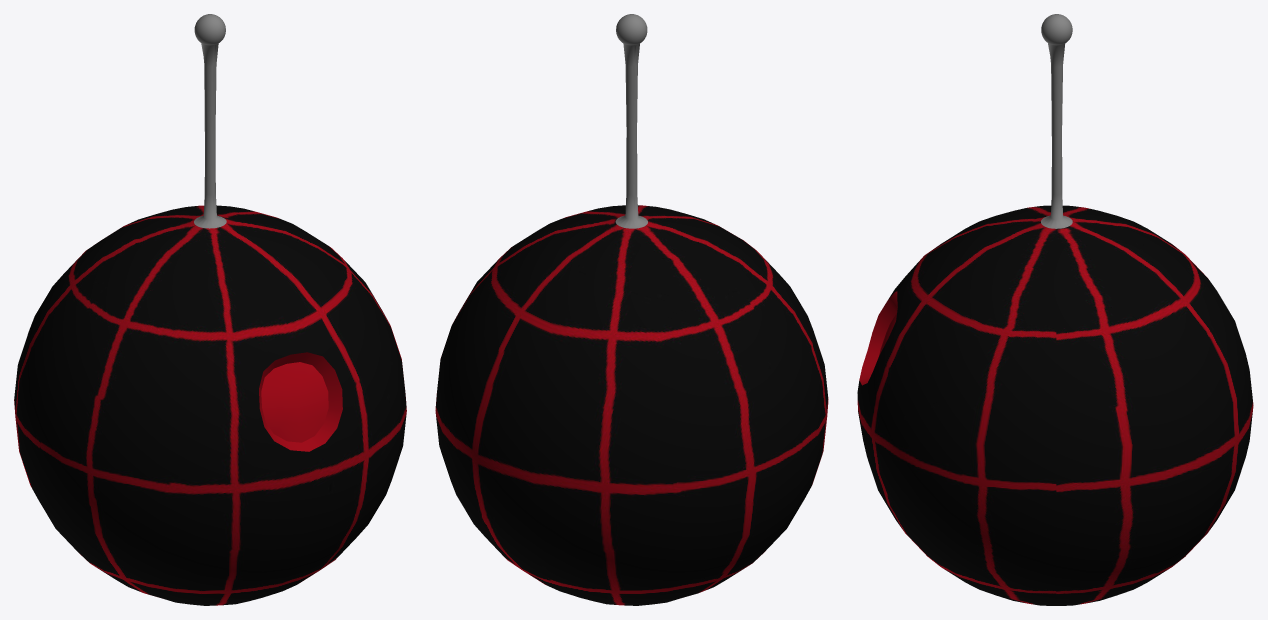
File: OpticalSwitch.fbx
3 views of the same model, side by side, from view 1: azimuth 30°, elevation 25°; view 2: azimuth 150°, elevation 25°; view 3: azimuth 270°, elevation 25° (orthographic).
Visible parts, largest first — view 1: Sphere001; view 2: Sphere001; view 3: Sphere001.
Part boxes in pixels (x1,y1,x2,y2): Sphere001: [14, 14, 406, 605]; Sphere001: [435, 14, 828, 605]; Sphere001: [857, 14, 1253, 605].
Size of the model in its own units: 110 by 176 by 110.
Materials: 1 (1 with a texture image).
